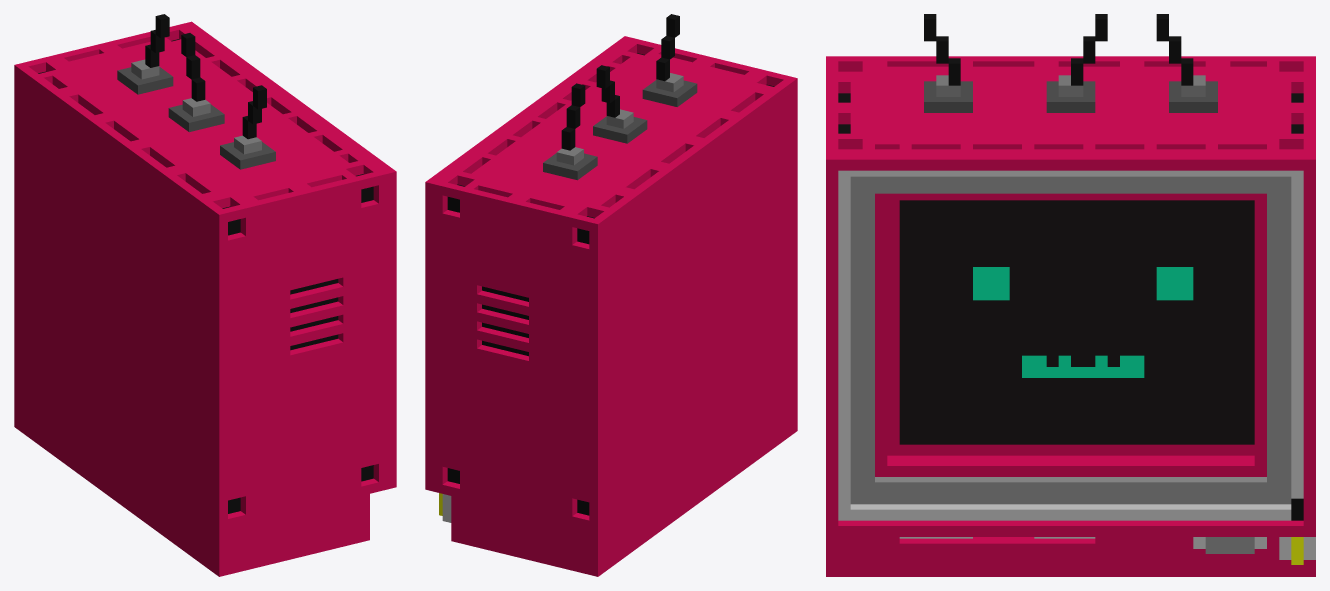
The model's file is main.obj.
3 views of the same model, side by side, from view 1: azimuth 30°, elevation 25°; view 2: azimuth 150°, elevation 25°; view 3: azimuth 270°, elevation 25° (orthographic). The views are drawn at different scales.
Size of the model in its own units: 2 by 4.7 by 4.
Materials: 1 (1 with a texture image).
